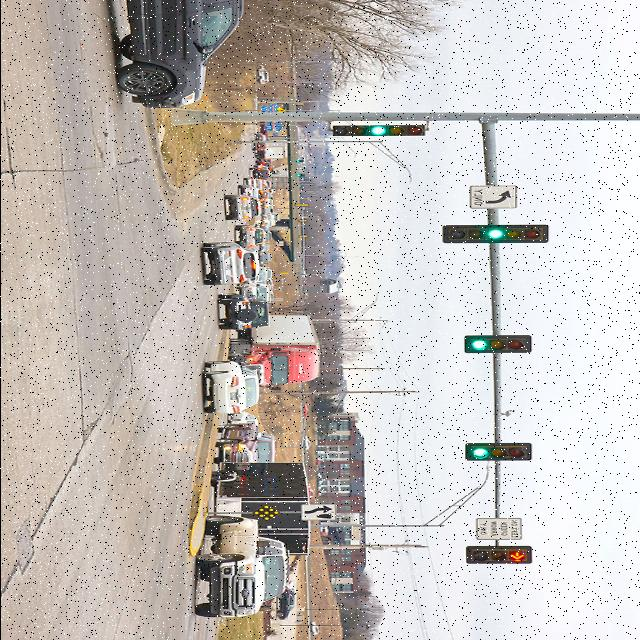green: (443, 227, 543, 241), (467, 443, 529, 459), (464, 337, 528, 352), (334, 125, 421, 135)
red: (466, 548, 528, 562)
